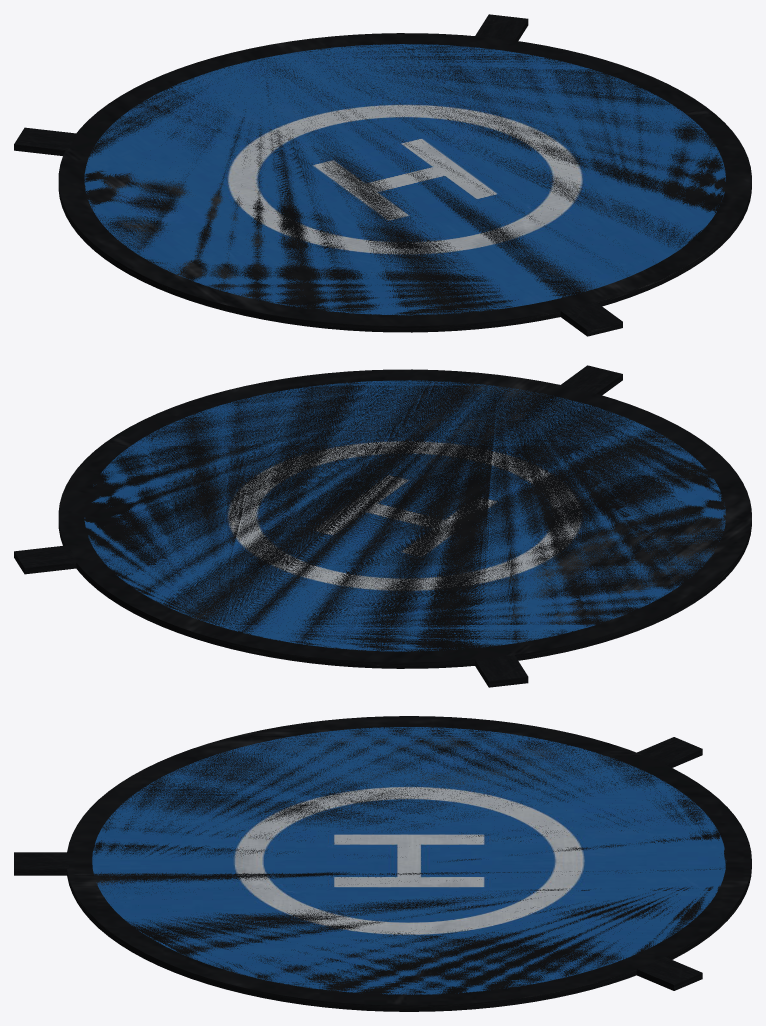
Rendered from DronePad_blue.fbx.
The picture shows the model from 3 angles, top to bottom: view 1: azimuth 30°, elevation 25°; view 2: azimuth 150°, elevation 25°; view 3: azimuth 270°, elevation 25°; orthographic projection.
Parts seen in each view (by area): view 1: DronePad_blue, DronePadSupport, DronePadSupport_1, DronePadSupport_2, DronePadSupport_3; view 2: DronePadSupport, DronePad_blue, DronePadSupport_3, DronePadSupport_2, DronePadSupport_1; view 3: DronePad_blue, DronePadSupport, DronePadSupport_3, DronePadSupport_1, DronePadSupport_2.
Boxes of the visible parts, x1,y1,x2,y2 form: DronePad_blue: [84, 44, 725, 315]; DronePadSupport: [58, 33, 751, 332]; DronePadSupport_1: [560, 301, 622, 336]; DronePadSupport_2: [14, 127, 77, 155]; DronePadSupport_3: [475, 14, 528, 40]; DronePadSupport: [58, 369, 751, 668]; DronePad_blue: [84, 380, 725, 651]; DronePadSupport_3: [14, 545, 76, 574]; DronePadSupport_2: [475, 654, 528, 687]; DronePadSupport_1: [561, 365, 622, 395]; DronePad_blue: [92, 727, 726, 994]; DronePadSupport: [66, 716, 751, 1011]; DronePadSupport_3: [636, 957, 702, 990]; DronePadSupport_1: [14, 852, 68, 875]; DronePadSupport_2: [635, 737, 702, 767].
Size of the model in its own units: 200 by 2 by 215.
